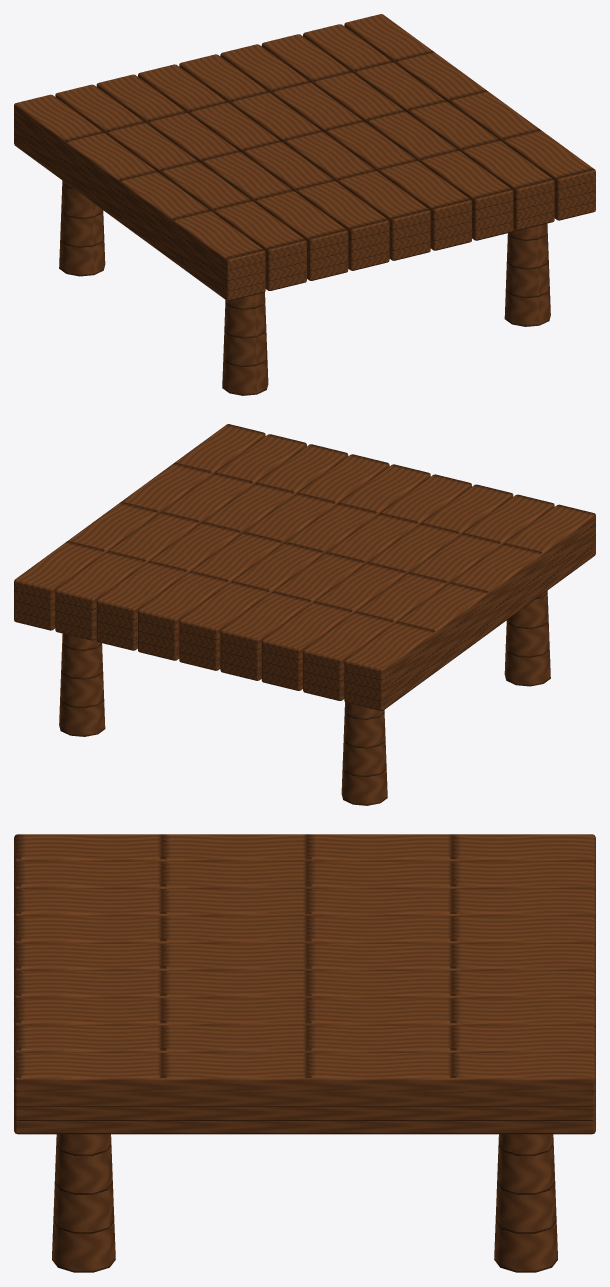
File: prehistoric-survivor-settlement-raised-pole-platform-25a114fe__23177.glb
3 renders of one model, top to bottom at view 1: azimuth 30°, elevation 25°; view 2: azimuth 150°, elevation 25°; view 3: azimuth 270°, elevation 25°, orthographic. The views are drawn at different scales.
Visible parts, largest first — view 1: raised-pole-platform; view 2: raised-pole-platform; view 3: raised-pole-platform.
Boxes of the visible parts, box(x1,y1,x2,y2) form: raised-pole-platform: box(14, 14, 595, 395); raised-pole-platform: box(14, 424, 595, 805); raised-pole-platform: box(14, 834, 595, 1272).
Size of the model in its own units: 1.99 by 0.7999 by 2.
1 material, 1 textured.
